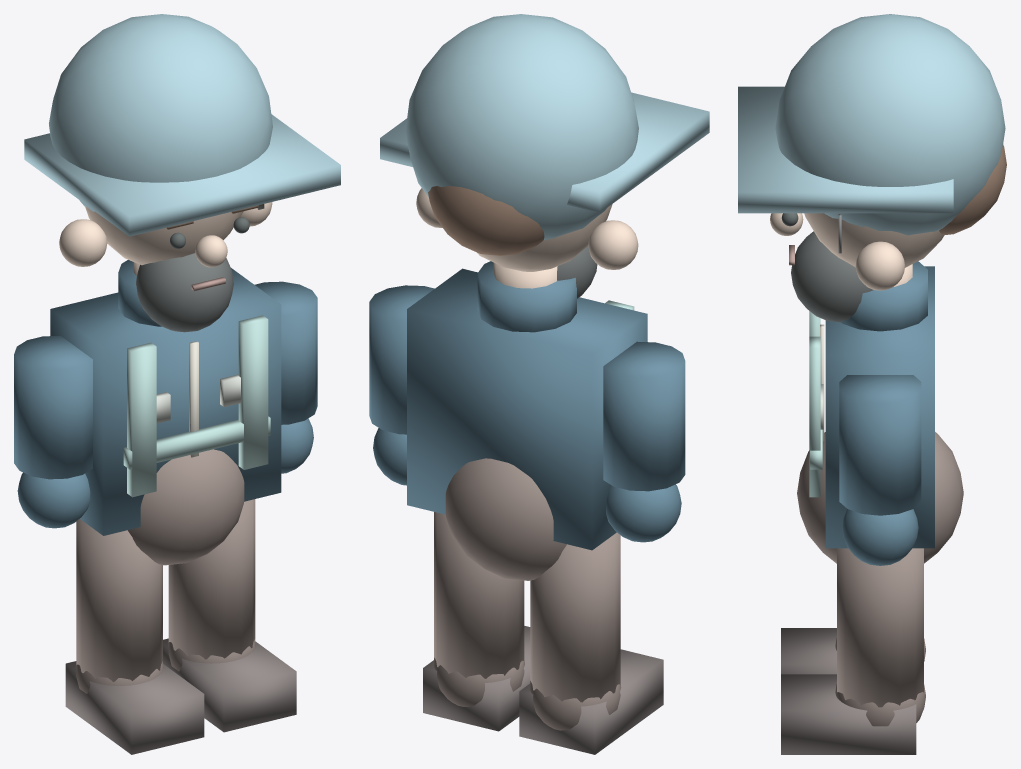
File: mercy_person_09.glb
3 views of the same model, side by side, from view 1: azimuth 30°, elevation 25°; view 2: azimuth 150°, elevation 25°; view 3: azimuth 270°, elevation 25° (orthographic). The views are drawn at different scales.
Parts seen in each view (by area): view 1: SkinClothing_10, SkinClothing_0, Arm_Left, Leg_Left, SkinClothing_5, Leg_Right, SkinClothing_1, Boot_Left, Boot_Right, Arm_Right, SkinClothing_2, SkinClothing_9 (+2 smaller); view 2: SkinClothing_0, SkinClothing_10, Arm_Left, Leg_Left, Leg_Right, SkinClothing_1, Arm_Right, Boot_Left, SkinClothing_2, SkinClothing_7, Boot_Right, SkinClothing_9; view 3: SkinClothing_10, Arm_Right, SkinClothing_0, Leg_Right, Boot_Right, SkinClothing_2, SkinClothing_1, SkinClothing_9, Boot_Left, SkinClothing_5, SkinClothing_7.
Boxes of the visible parts, <box> form: SkinClothing_10: <box>24,14,340,236</box>; SkinClothing_0: <box>50,260,281,535</box>; Arm_Left: <box>14,336,92,528</box>; Leg_Left: <box>75,519,163,693</box>; SkinClothing_5: <box>123,315,270,497</box>; Leg_Right: <box>168,499,255,671</box>; SkinClothing_1: <box>128,449,244,565</box>; Boot_Left: <box>65,661,204,754</box>; Boot_Right: <box>163,638,296,732</box>; Arm_Right: <box>254,281,317,473</box>; SkinClothing_2: <box>59,202,272,276</box>; SkinClothing_9: <box>136,253,233,332</box>; SkinClothing_0: <box>407,261,647,550</box>; SkinClothing_10: <box>380,14,709,240</box>; Arm_Left: <box>603,341,685,542</box>; Leg_Left: <box>529,532,621,730</box>; Leg_Right: <box>433,512,524,706</box>; SkinClothing_1: <box>445,458,566,580</box>; Arm_Right: <box>369,285,434,485</box>; Boot_Left: <box>519,649,663,754</box>; SkinClothing_2: <box>416,188,638,288</box>; SkinClothing_7: <box>428,185,544,255</box>; Boot_Right: <box>423,626,530,731</box>; SkinClothing_9: <box>557,246,597,298</box>; SkinClothing_10: <box>738,14,1005,235</box>; Arm_Right: <box>839,375,921,565</box>; SkinClothing_0: <box>825,261,934,548</box>; Leg_Right: <box>835,548,925,726</box>; Boot_Right: <box>781,674,916,754</box>; SkinClothing_2: <box>770,213,944,290</box>; SkinClothing_1: <box>797,432,963,563</box>; SkinClothing_9: <box>791,231,873,322</box>; Boot_Left: <box>781,628,836,674</box>; SkinClothing_5: <box>809,311,822,497</box>; SkinClothing_7: <box>939,144,1006,235</box>.
Bounding box in the file's own units: 1.19 × 2.62 × 0.925.
